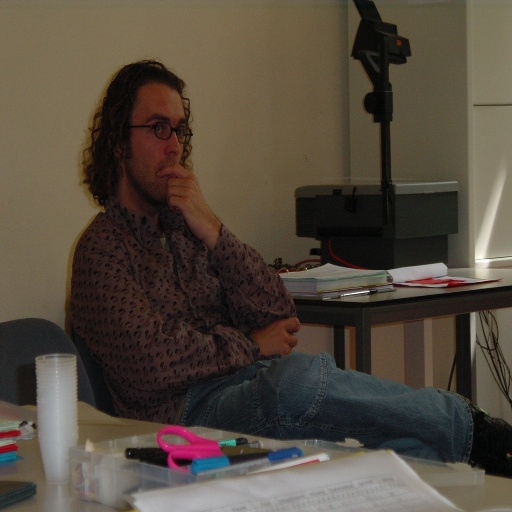hand: (160, 170, 212, 225), (250, 315, 302, 359)
